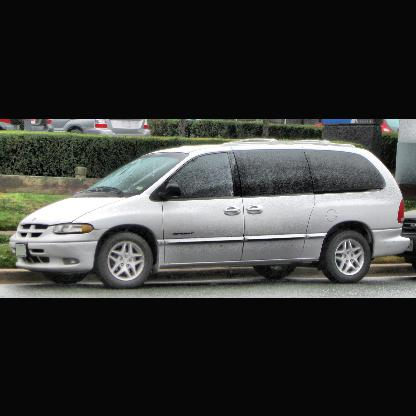Dodge Caravan Minivan 1997: (8, 138, 414, 283)
